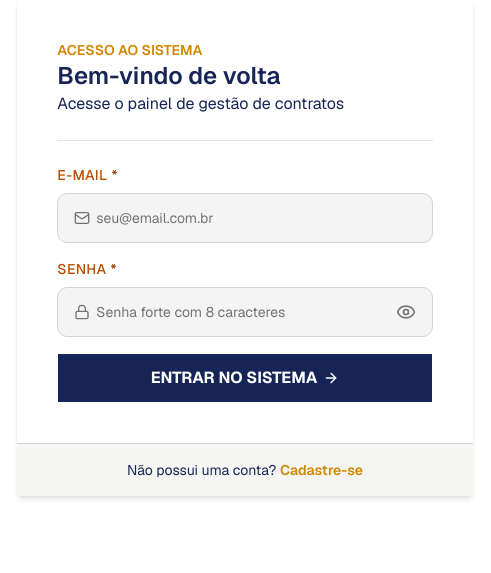
Scenario: LoginForm › should display an error when login fails with invalid credentials
The width and height of the screenshot is (491, 573).
Type "test@email.com" into the field labelled "e-mail *" at (257,218), box [90,202,424,234]
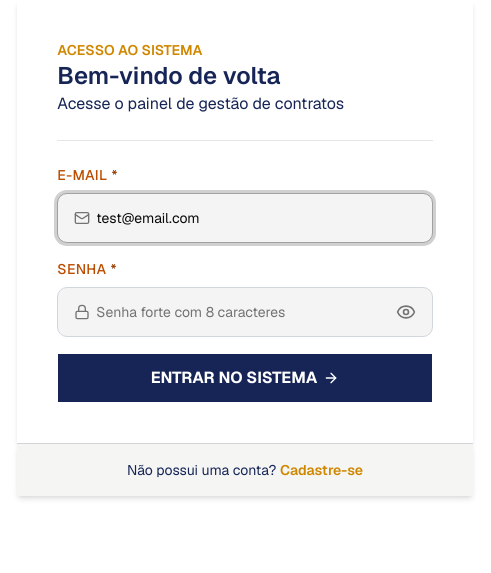
Type "12345678" into the password field labelled "senha *" at (243,312), box [90,296,396,328]
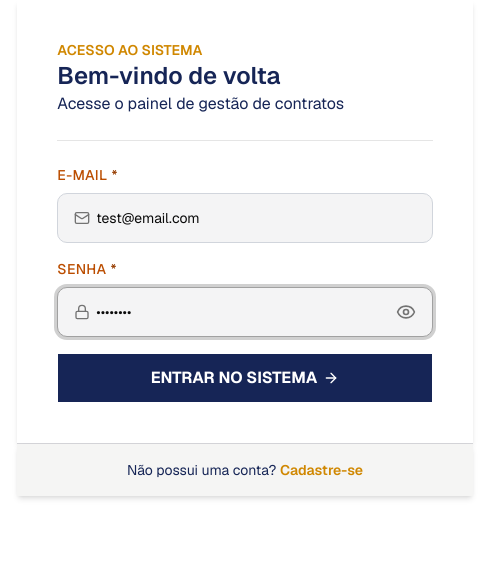
Click the button "entrar no sistema" at (245,378), box [57,353,433,403]
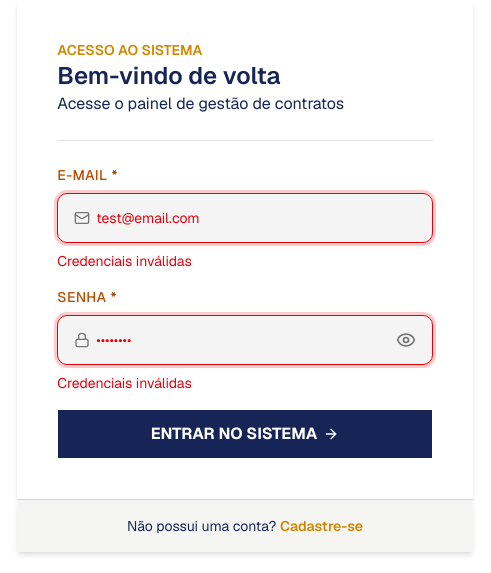
Expected: the message "Credenciais inválidas" below "e-mail" is shown, [57,252,192,270]
